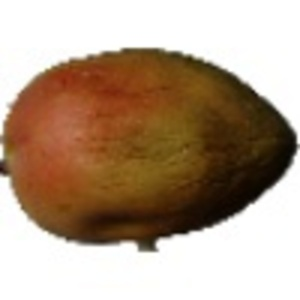mamão: (5, 44, 297, 245)
